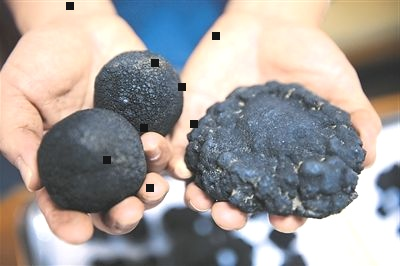halobolite: (181, 78, 373, 221), (37, 100, 146, 217), (95, 48, 189, 143)
